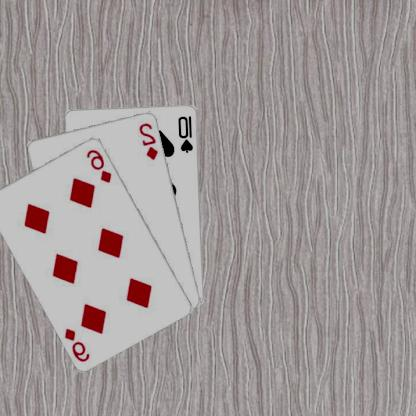10S: (178, 113, 196, 154)
2D: (138, 120, 161, 161)
6D: (86, 146, 115, 184), (64, 325, 92, 363)
